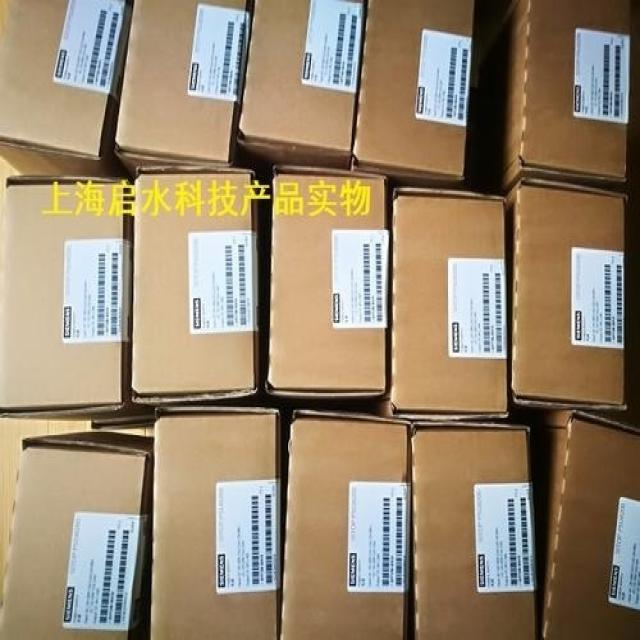box: (0, 430, 154, 640), (0, 177, 133, 419), (131, 166, 259, 405), (150, 409, 280, 640), (280, 412, 412, 638), (504, 177, 627, 410), (264, 165, 387, 396), (389, 188, 508, 423), (412, 421, 539, 640), (113, 0, 252, 179), (349, 0, 475, 183), (541, 409, 640, 640), (238, 0, 366, 169)
